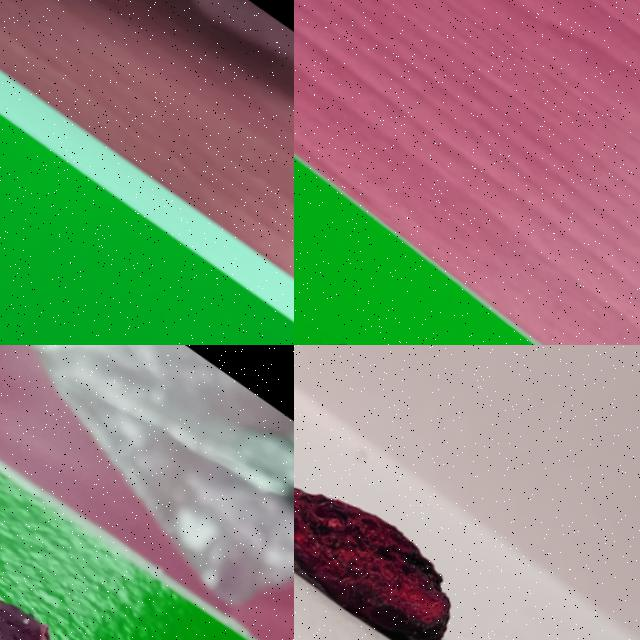Fine_cocoabeans: (294, 174, 639, 344)
Flat_cocoabeans: (294, 387, 560, 639), (0, 404, 157, 639), (0, 260, 293, 344)
